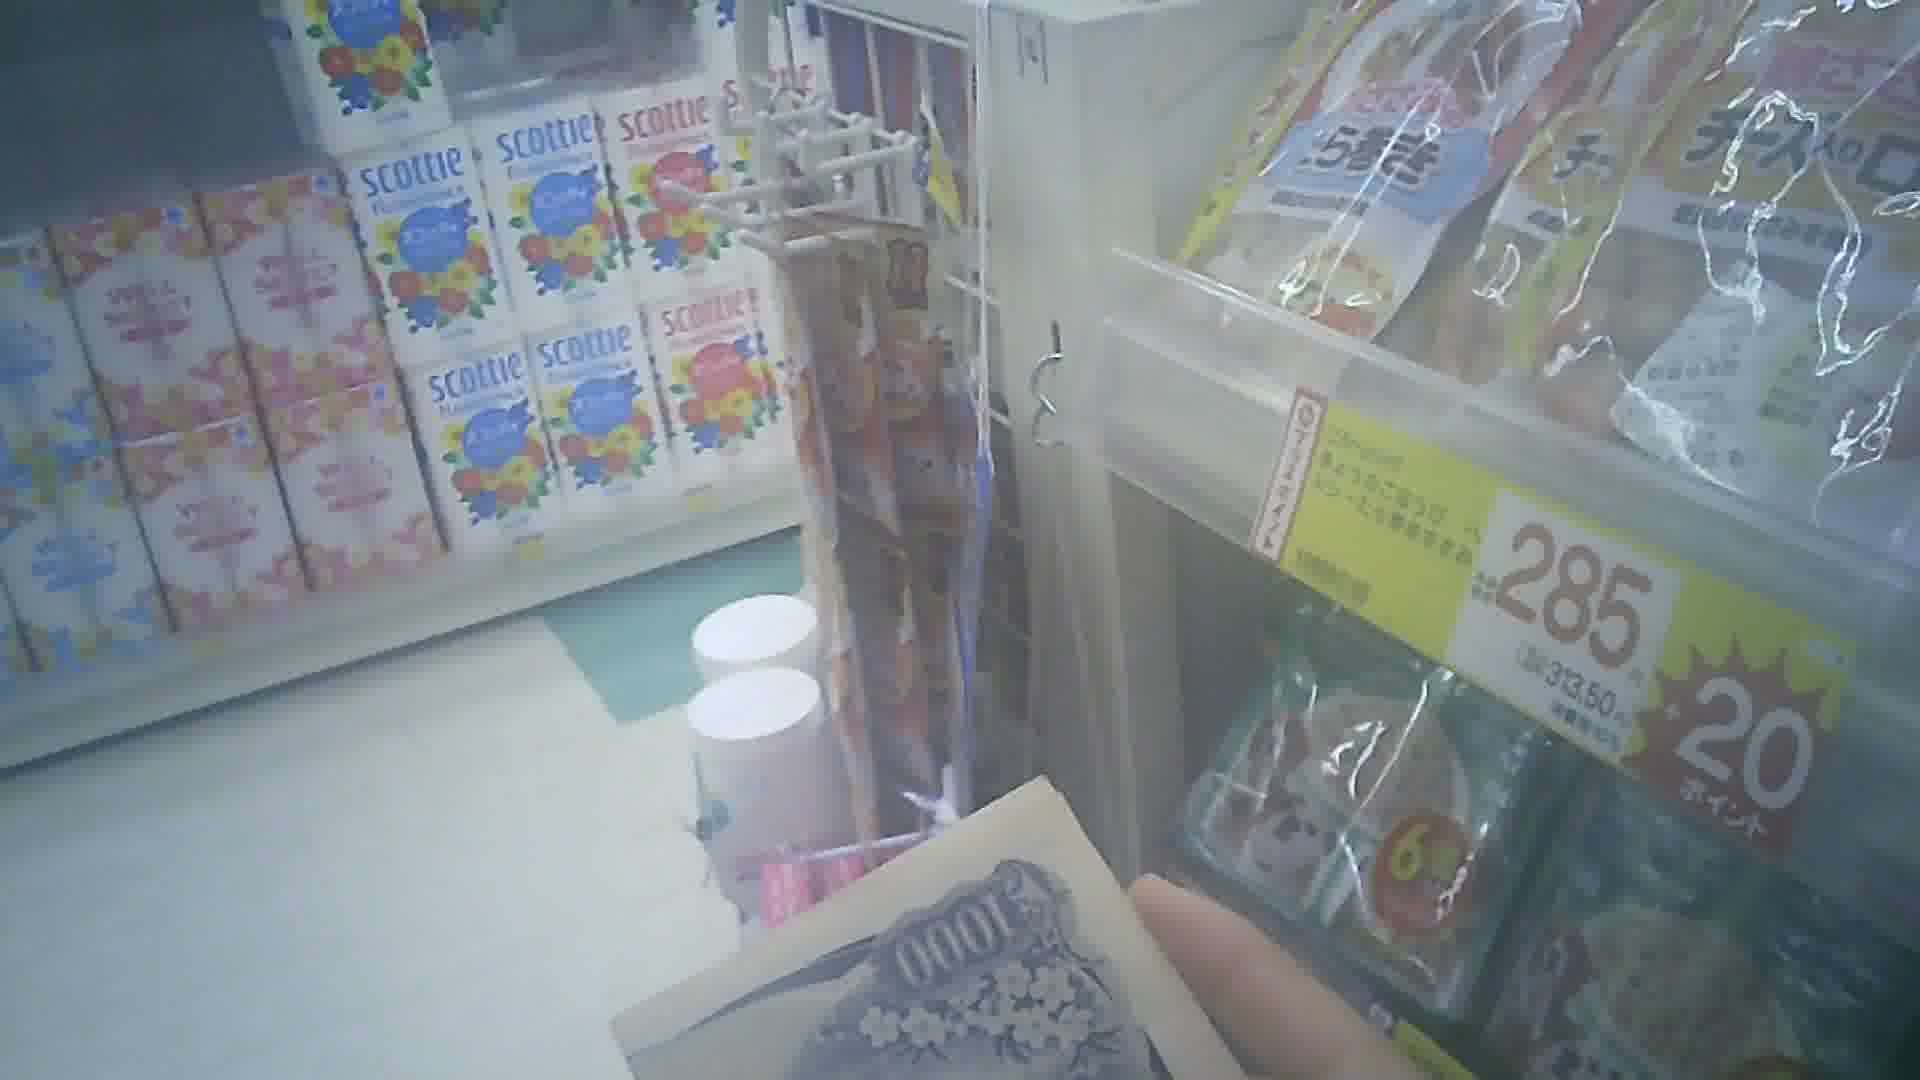1,000 Yen: (629, 800, 1218, 1079)
